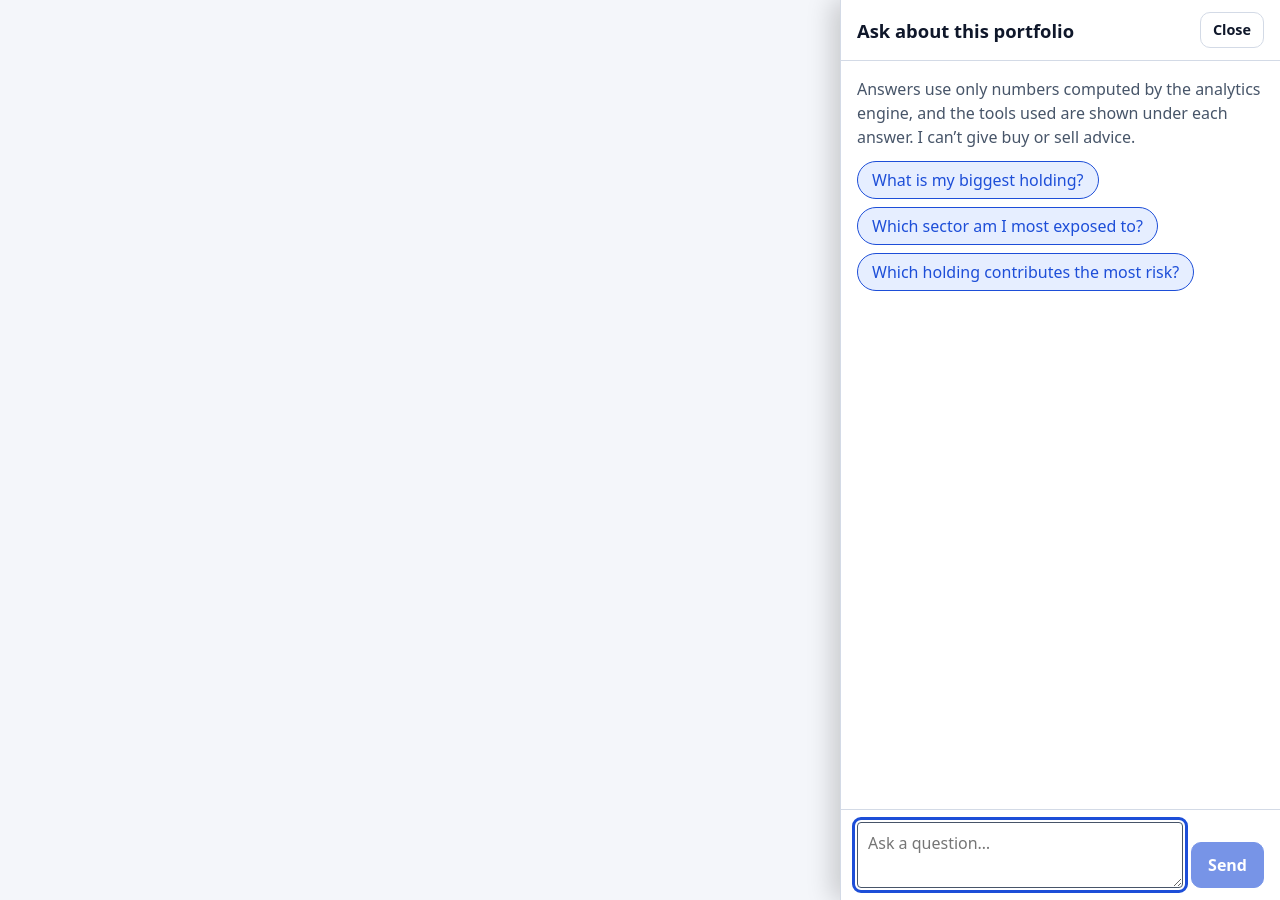
chat drawer › notes when an answer could not be verified
This screenshot has width=1280, height=900.
Type "hello" into the text box named "Your question" at (1020, 855), box [857,822,1183,888]
Then press Enter
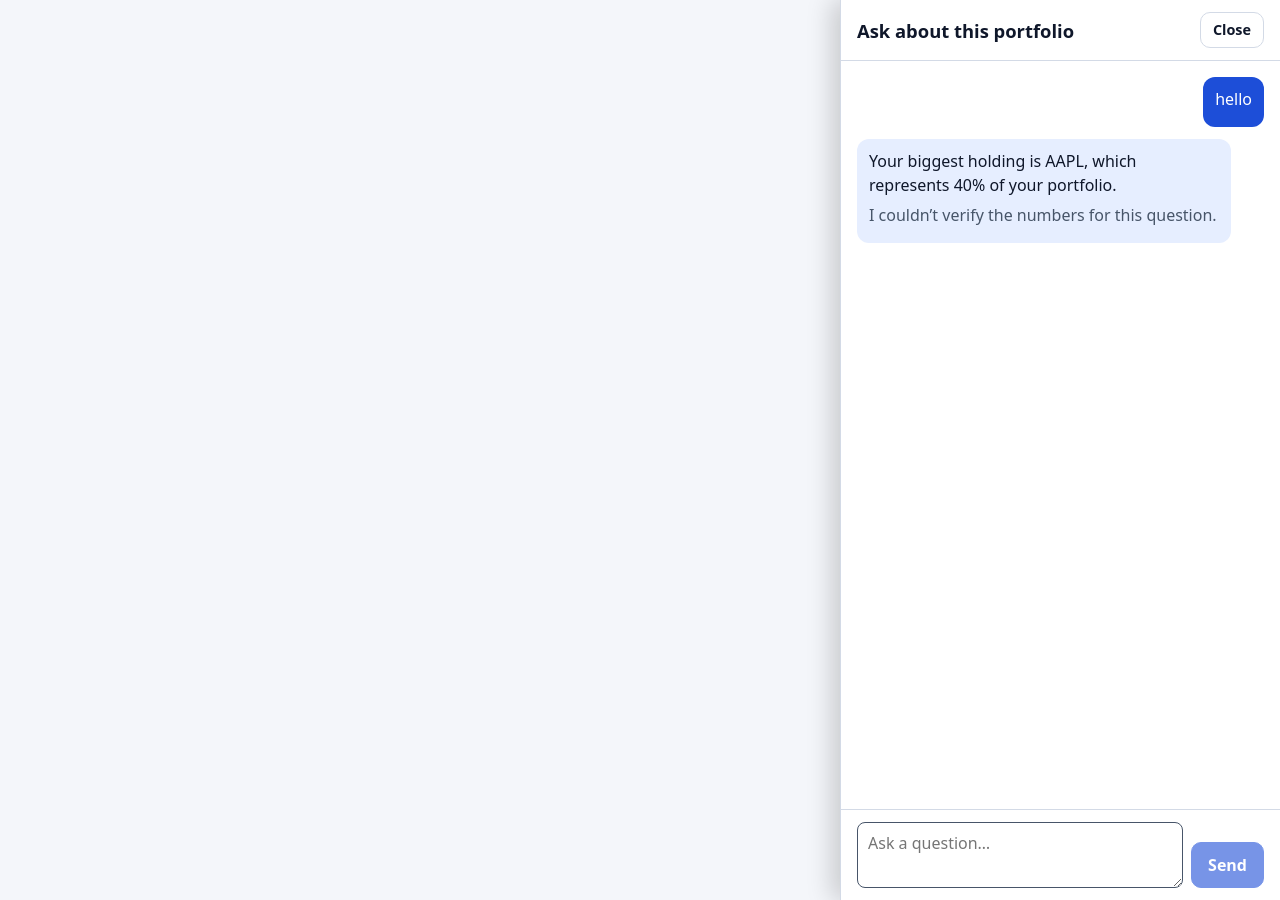
Now the text "I couldn’t verify the numbers for this question." is shown, box [869,203,1219,227]
Now the text "tools used" is gone
